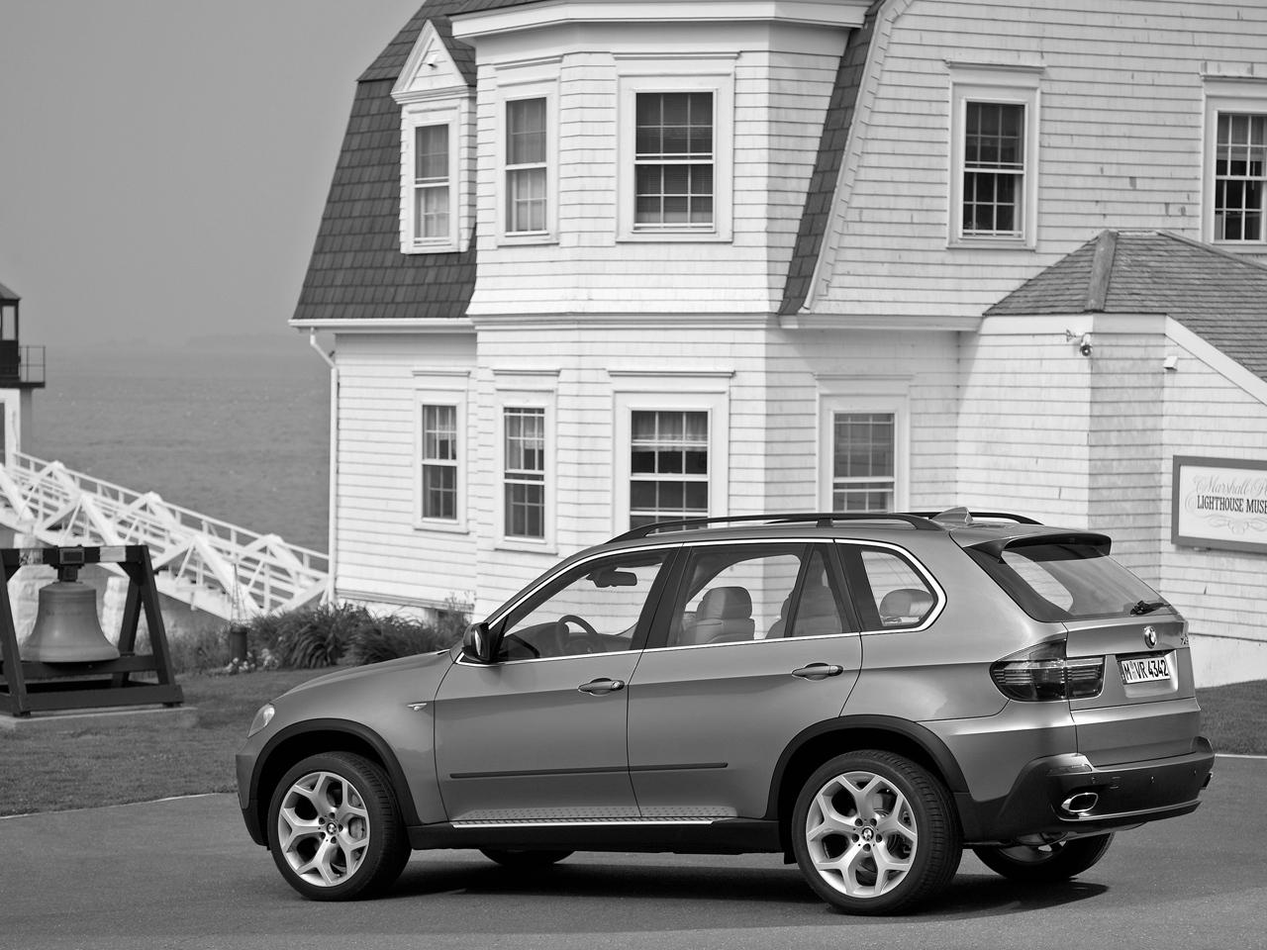car: (229, 505, 1219, 922)
